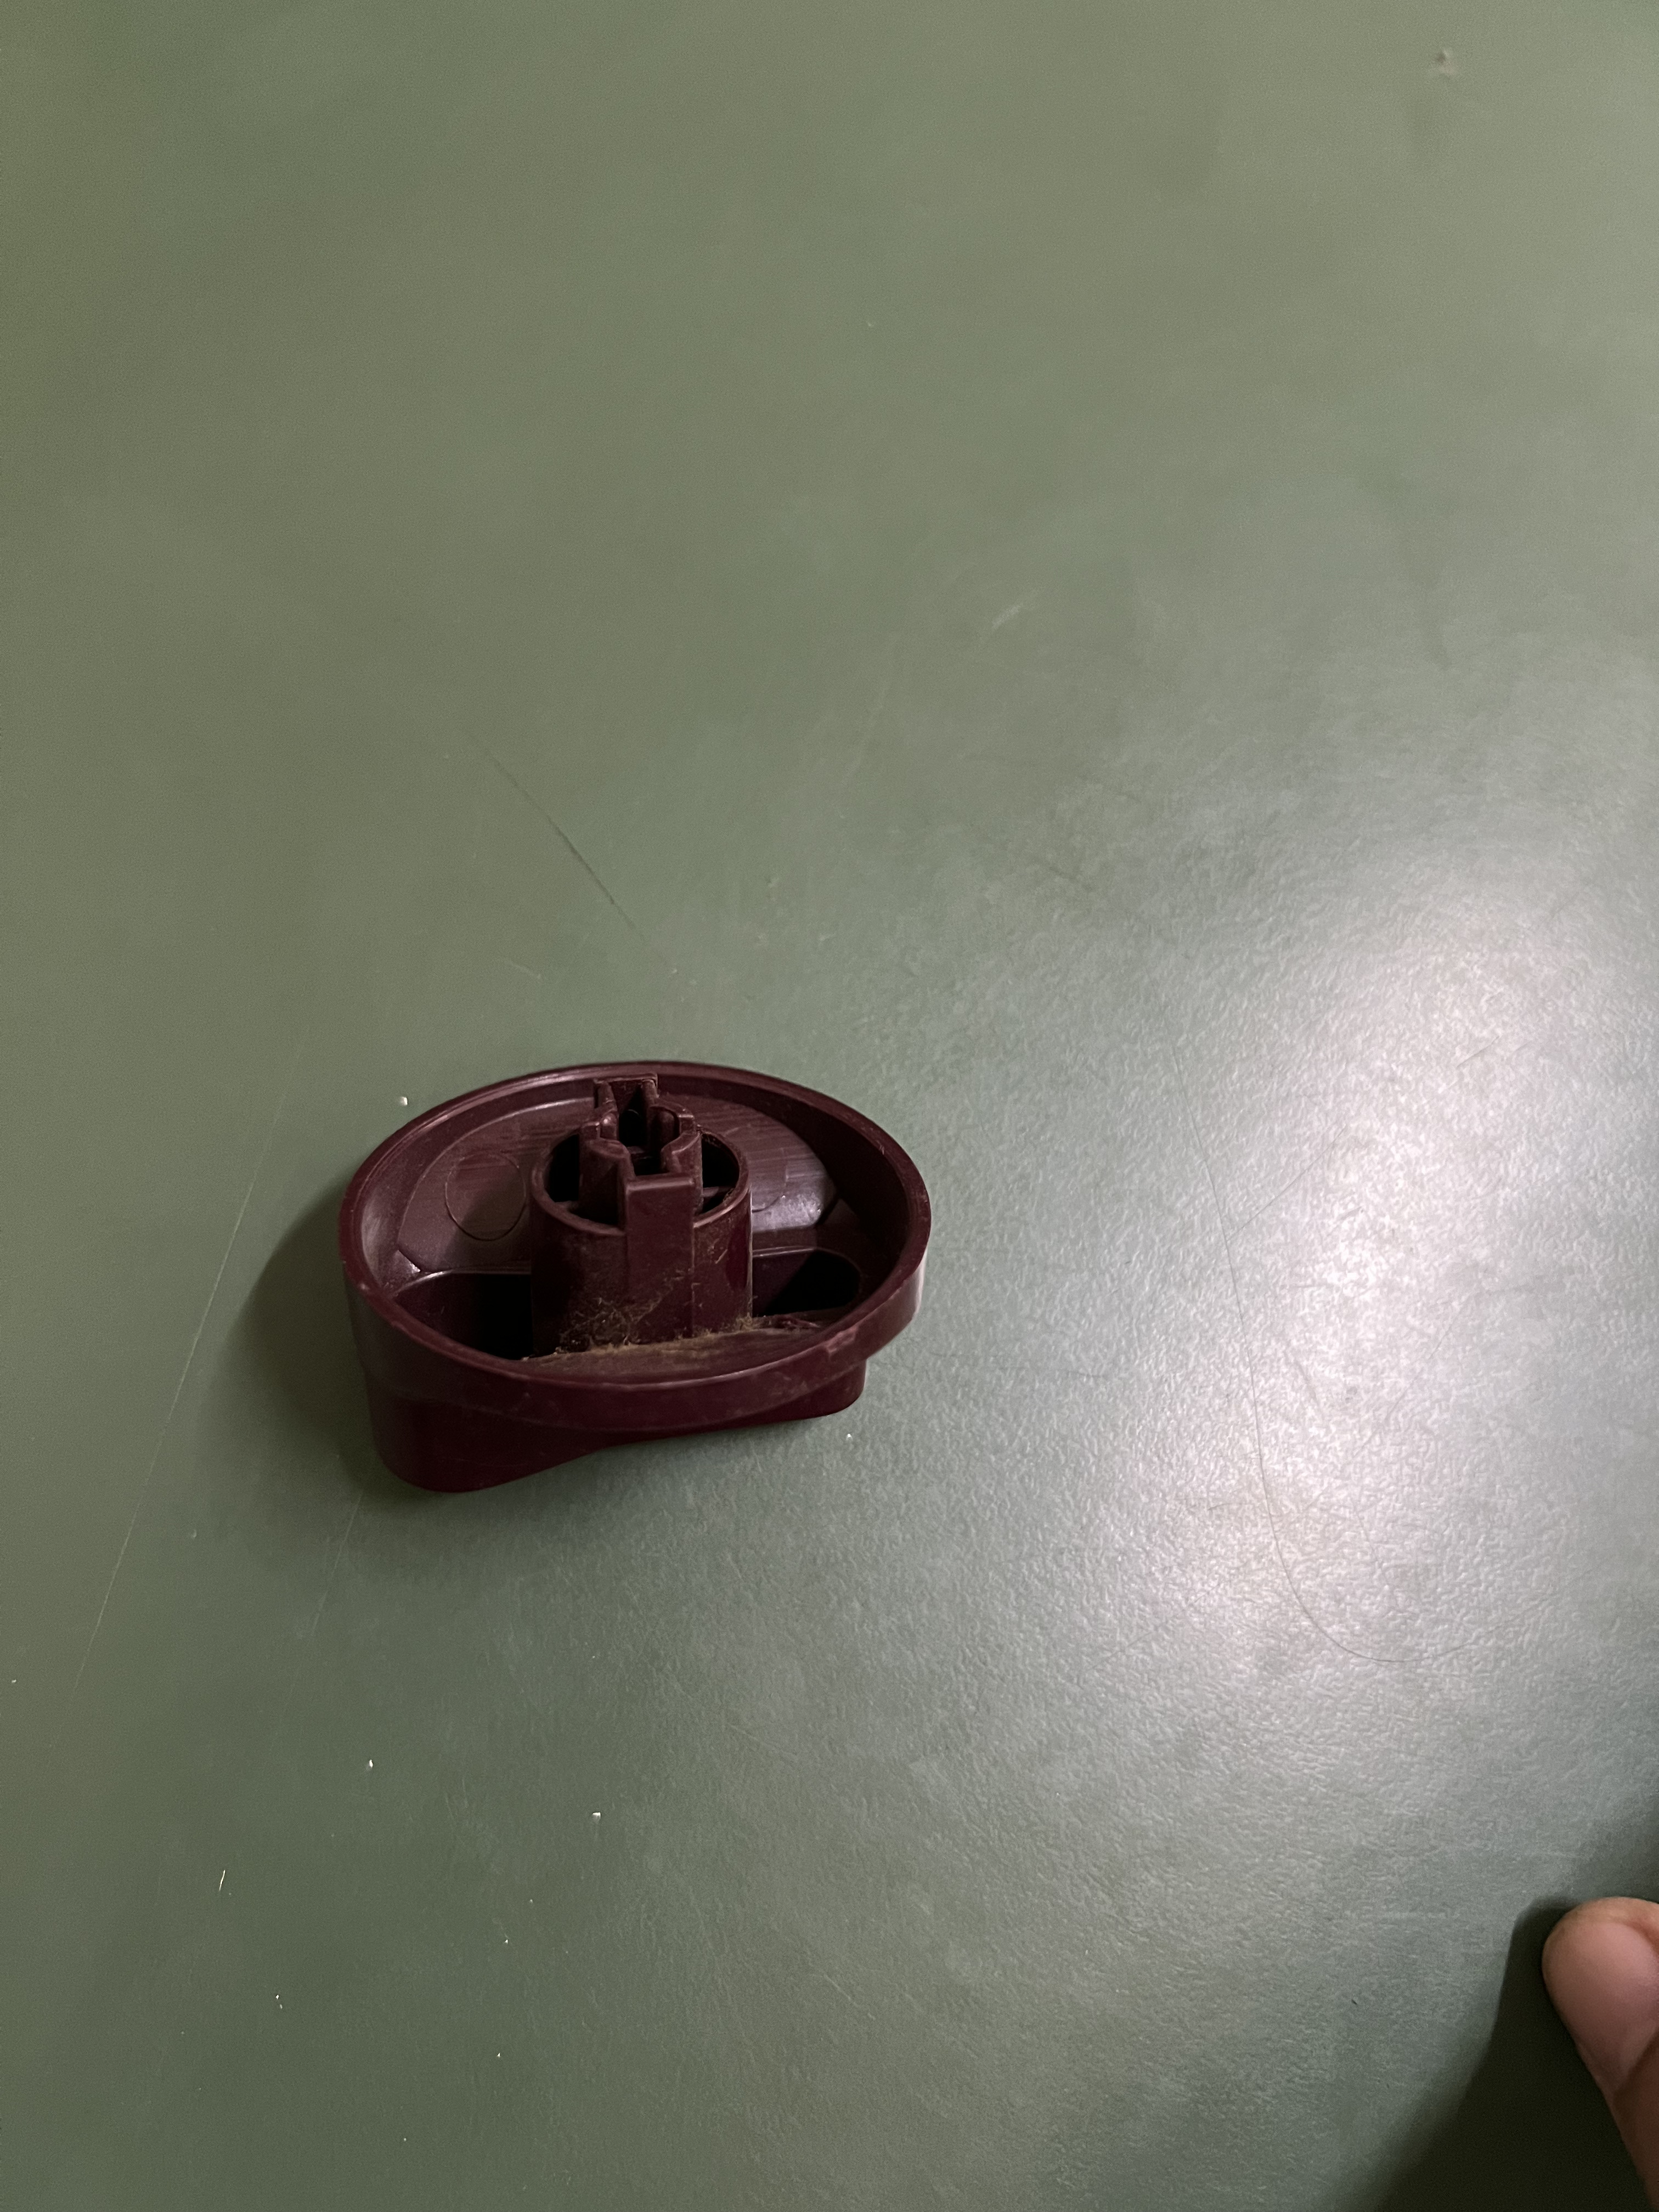regulator: (336, 1049, 936, 1511)
